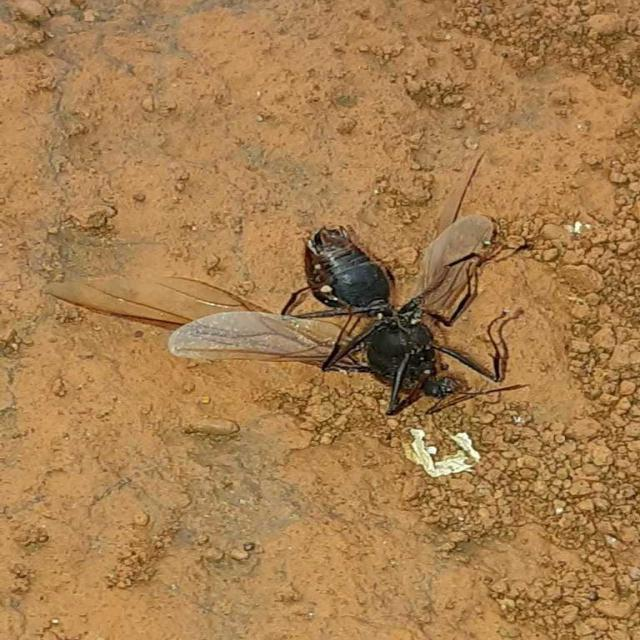Dead-Male-Alate: (39, 150, 531, 417)
